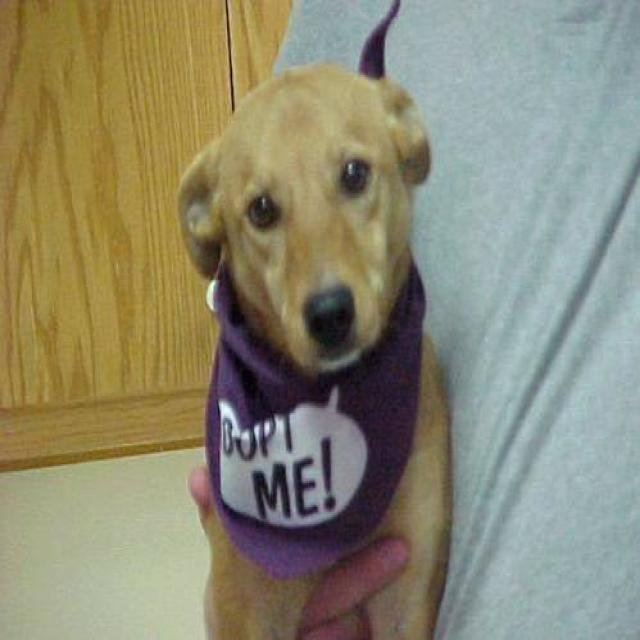dog: (174, 0, 453, 638)
